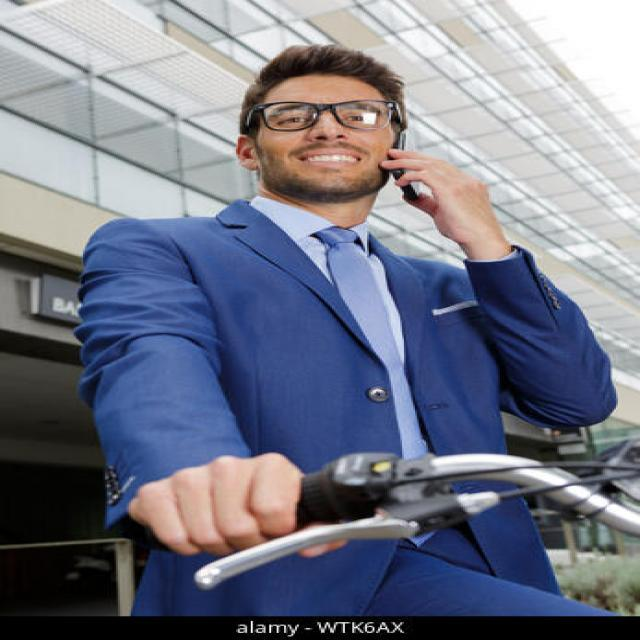Using mobile: (222, 49, 498, 305)
